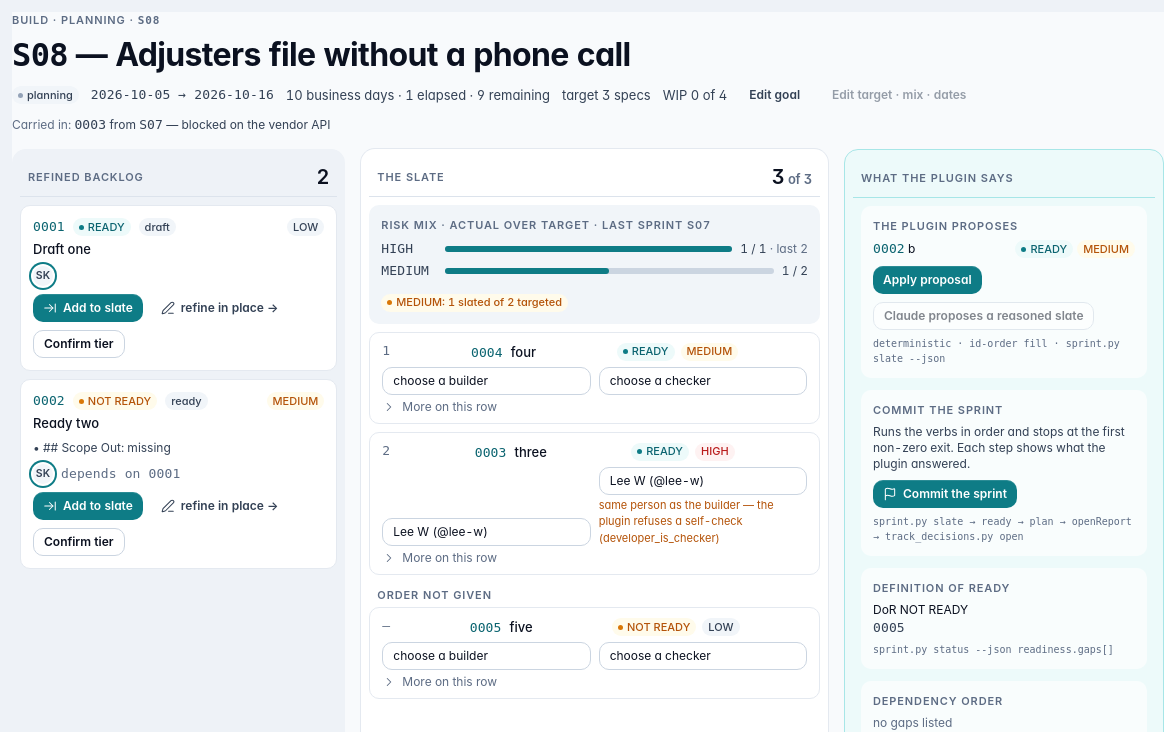
Planning: three columns, the plugin's order, the plugin's words › orders the backlog READY first and enables "Add to slate" on a draft; the click is one slate request and exit 0 re-reads
Expected: the header with test id "planning-header" is shown, [12, 13, 976, 132]
Expected: the list item "• ## Scope Out: missing" is shown, [33, 440, 171, 455]
Click the button "Add to slate" below "Draft one".
click(88, 308)  # box [33, 294, 143, 322]
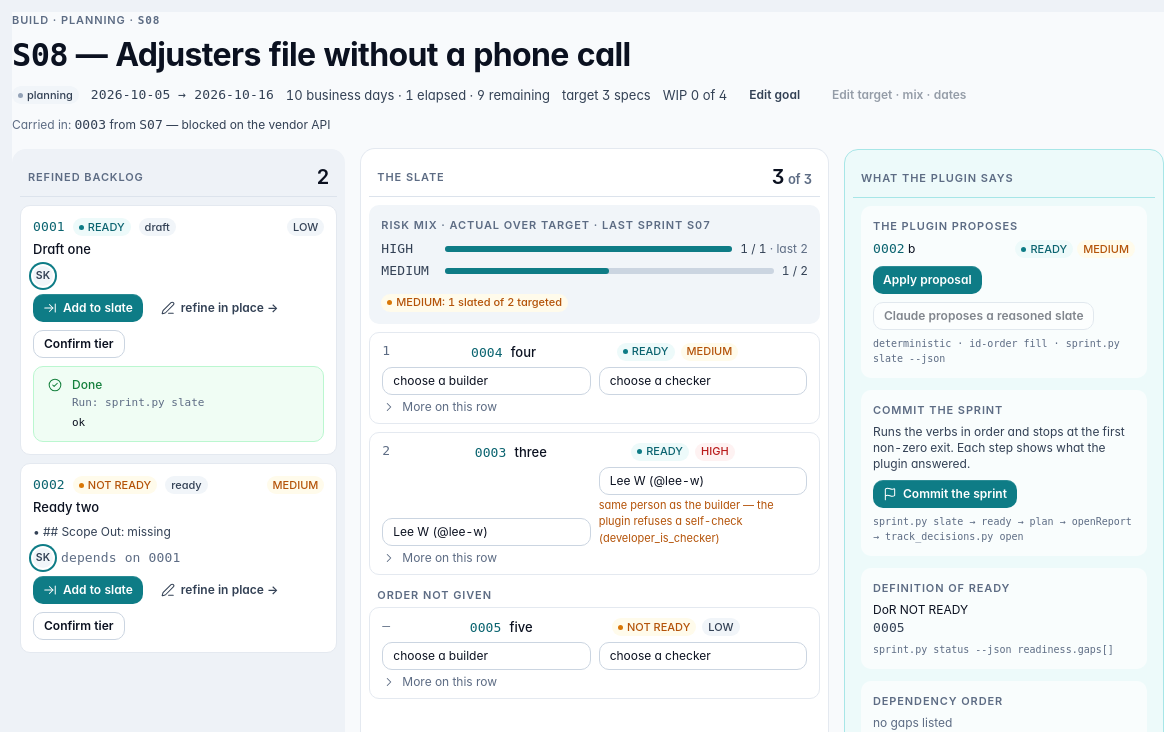
Now the text "Done" is shown, box [72, 377, 102, 392]
